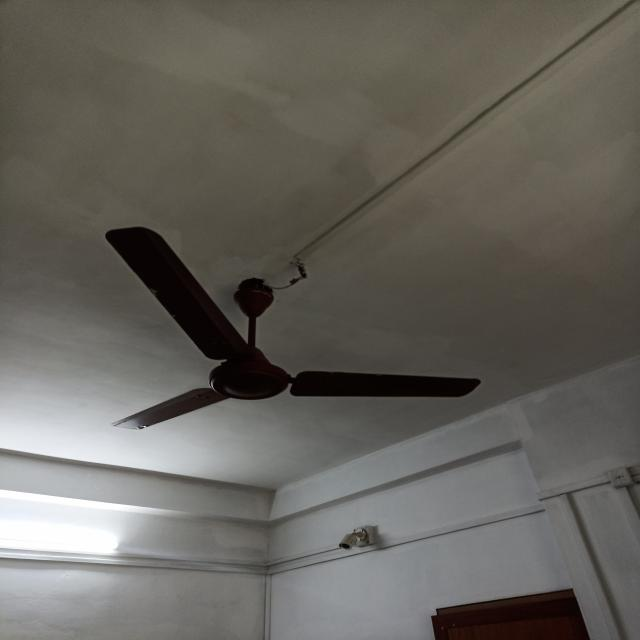fan: (103, 224, 481, 430)
